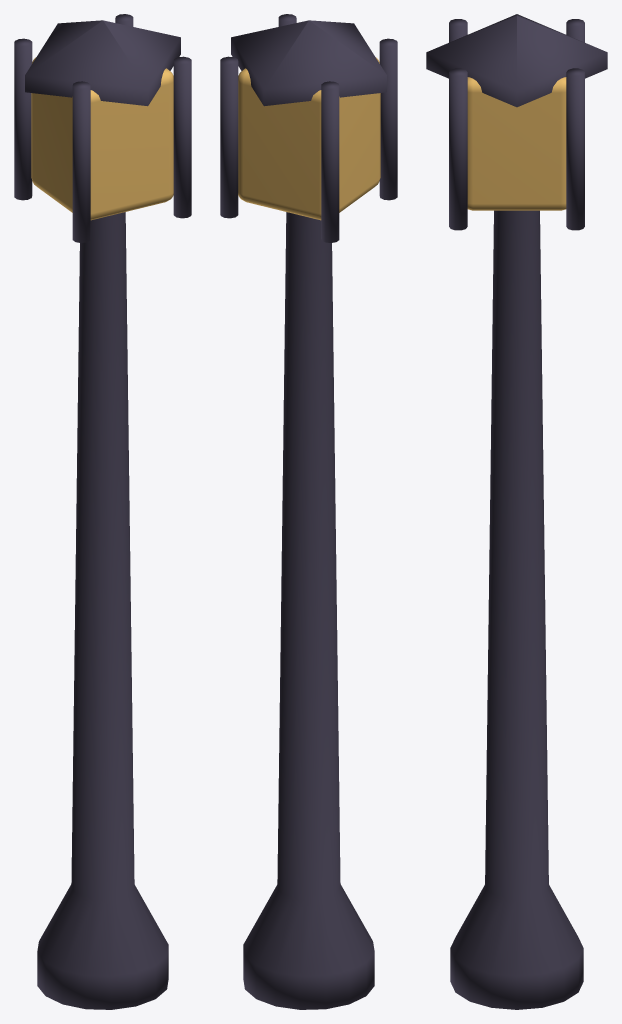
File: Street_lantern.fbx
3 views of the same model, side by side, from view 1: azimuth 30°, elevation 25°; view 2: azimuth 150°, elevation 25°; view 3: azimuth 270°, elevation 25° (orthographic).
Visible parts, largest first — view 1: Town_Street_lantern Lamp base.001, Town_Street_lantern Lantern glowing glass.001, Town_Street_lantern Lantern roof.001, Town_Street_lantern Lantern frame.004, Town_Street_lantern Lantern frame.006, Town_Street_lantern Lantern frame.005; view 2: Town_Street_lantern Lamp base.001, Town_Street_lantern Lantern glowing glass.001, Town_Street_lantern Lantern roof.001, Town_Street_lantern Lantern frame.005, Town_Street_lantern Lantern frame.007, Town_Street_lantern Lantern frame.004; view 3: Town_Street_lantern Lamp base.001, Town_Street_lantern Lantern glowing glass.001, Town_Street_lantern Lantern roof.001, Town_Street_lantern Lantern frame.006, Town_Street_lantern Lantern frame.007.
Part boxes in pixels (box(x1,y1,x2,y2)): Town_Street_lantern Lamp base.001: box(37, 212, 168, 1009); Town_Street_lantern Lantern glowing glass.001: box(31, 57, 173, 220); Town_Street_lantern Lantern roof.001: box(25, 20, 180, 106); Town_Street_lantern Lantern frame.004: box(72, 81, 90, 242); Town_Street_lantern Lantern frame.006: box(173, 56, 191, 218); Town_Street_lantern Lantern frame.005: box(14, 38, 32, 200); Town_Street_lantern Lamp base.001: box(243, 212, 374, 1009); Town_Street_lantern Lantern glowing glass.001: box(238, 57, 380, 220); Town_Street_lantern Lantern roof.001: box(231, 20, 386, 106); Town_Street_lantern Lantern frame.005: box(321, 81, 339, 242); Town_Street_lantern Lantern frame.007: box(220, 56, 238, 218); Town_Street_lantern Lantern frame.004: box(379, 38, 397, 200); Town_Street_lantern Lamp base.001: box(450, 210, 583, 1009); Town_Street_lantern Lantern glowing glass.001: box(467, 77, 566, 210); Town_Street_lantern Lantern roof.001: box(426, 14, 607, 107); Town_Street_lantern Lantern frame.006: box(449, 68, 467, 230); Town_Street_lantern Lantern frame.007: box(566, 68, 584, 230).
Bounding box in the file's own units: 68 × 400 × 68.
